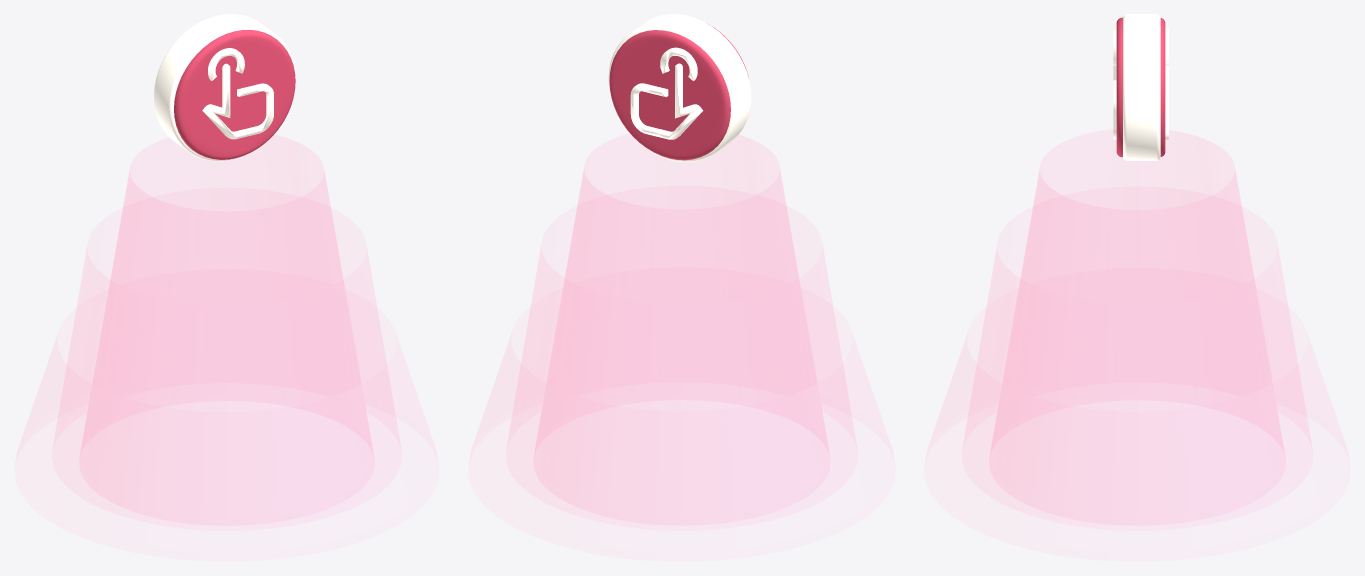
Rendered from dpwii_parcial2_marcadores_objeto.glb.
3 views of the same model, side by side, from view 1: azimuth 30°, elevation 25°; view 2: azimuth 150°, elevation 25°; view 3: azimuth 270°, elevation 25° (orthographic).
Visible parts, largest first — view 1: marcador_persona_01.001, marcador_persona_02.001, Cylinder.003, Cylinder.004, objeto.svg; view 2: marcador_persona_01.001, marcador_persona_02.001, Cylinder.003, Cylinder.004, objeto.svg; view 3: marcador_persona_01.001, marcador_persona_02.001, Cylinder.004, Cylinder.003, objeto.svg.
Boxes of the visible parts, x1,y1,x2,y2 form: marcador_persona_01.001: (80, 135, 373, 455); marcador_persona_02.001: (53, 250, 400, 446); Cylinder.003: (174, 29, 295, 159); Cylinder.004: (153, 14, 295, 161); objeto.svg: (202, 48, 273, 139); marcador_persona_01.001: (534, 134, 829, 456); marcador_persona_02.001: (507, 246, 856, 445); Cylinder.003: (609, 24, 748, 160); Cylinder.004: (608, 14, 751, 162); objeto.svg: (630, 47, 703, 139); marcador_persona_01.001: (990, 129, 1284, 455); marcador_persona_02.001: (963, 249, 1311, 445); Cylinder.004: (1123, 14, 1160, 160); Cylinder.003: (1116, 17, 1165, 157); objeto.svg: (1113, 28, 1168, 139).
Size of the model in its own units: 6.11 by 7.12 by 6.11.
